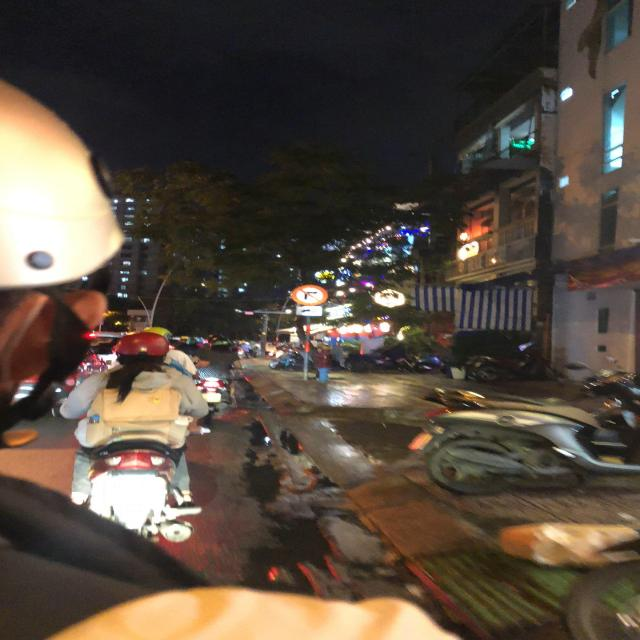Bien bao cam re phai: (290, 283, 329, 306)
